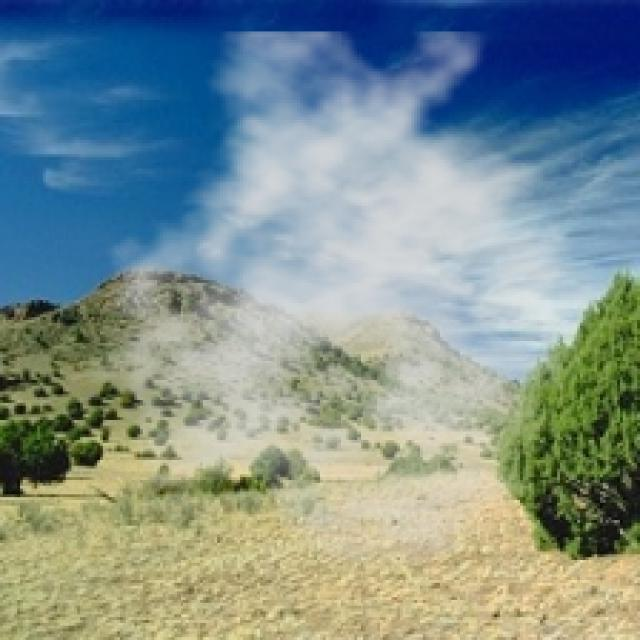Smoke: (82, 31, 634, 568)
